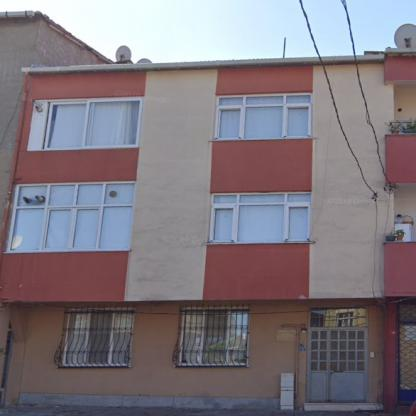door: (309, 330, 366, 400)
window: (8, 182, 136, 250), (29, 98, 141, 149), (211, 192, 311, 241), (214, 94, 311, 139), (64, 311, 133, 364), (182, 310, 247, 363), (310, 308, 365, 327)
